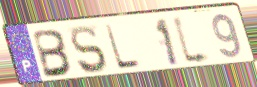1: (153, 16, 182, 66)
9: (209, 11, 244, 61)
B: (31, 28, 75, 80)
L: (170, 13, 216, 68), (103, 23, 143, 71)
S: (69, 24, 109, 75)
